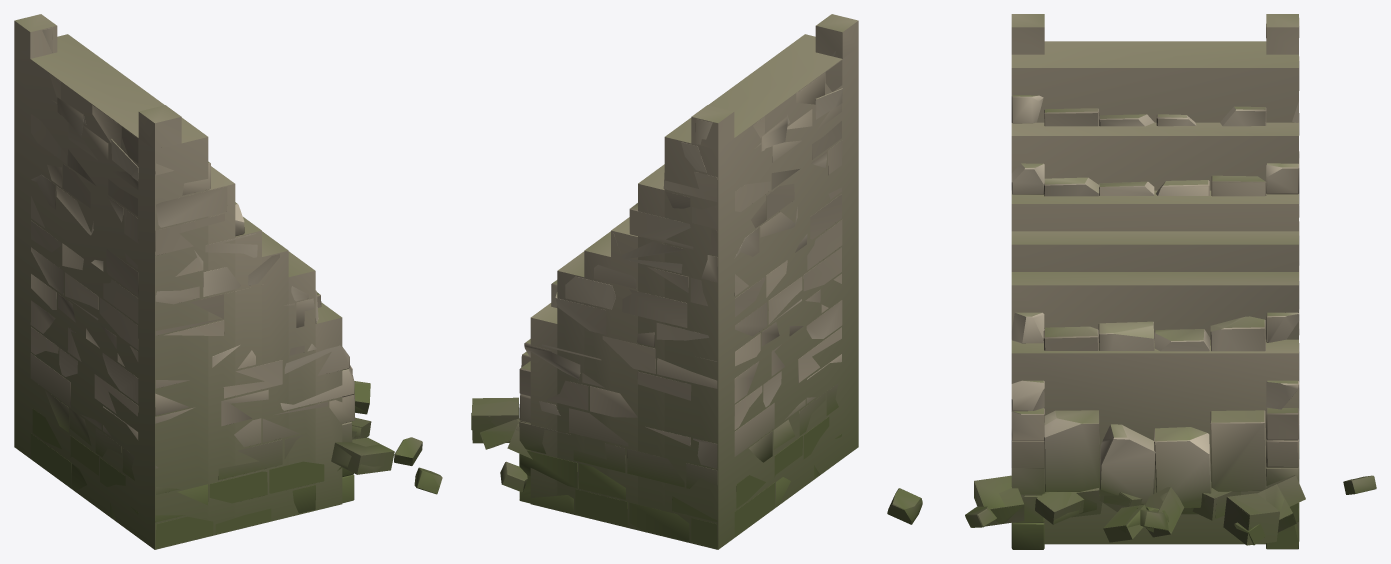
Rendered from citadel_wall_end.glb.
The picture shows the model from 3 angles, left to right: view 1: azimuth 30°, elevation 25°; view 2: azimuth 150°, elevation 25°; view 3: azimuth 270°, elevation 25°; orthographic projection. The views are drawn at different scales.
Parts seen in each view (by area): view 1: citadel_wall_end_far, citadel_wall_end; view 2: citadel_wall_end_far, citadel_wall_end; view 3: citadel_wall_end_far, citadel_wall_end.
Part boxes in pixels (x1=…): citadel_wall_end_far: x1=14, y1=14, x2=394, y2=549; citadel_wall_end: x1=30, y1=27, x2=442, y2=548; citadel_wall_end_far: x1=472, y1=14, x2=858, y2=549; citadel_wall_end: x1=471, y1=51, x2=842, y2=548; citadel_wall_end_far: x1=974, y1=14, x2=1305, y2=545; citadel_wall_end: x1=887, y1=18, x2=1376, y2=549.
Bounding box in the file's own units: 23.56 × 35.2 × 35.78.
